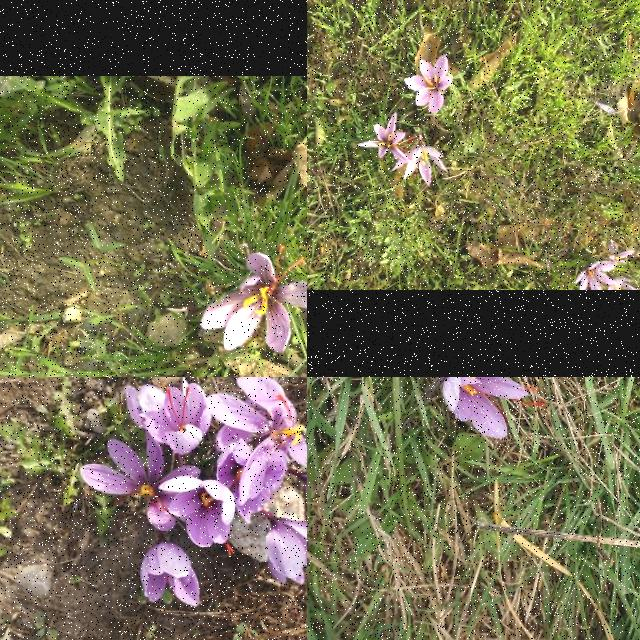flower: (204, 377, 307, 506), (80, 429, 202, 533), (200, 246, 307, 354), (442, 377, 549, 440), (158, 477, 238, 557), (138, 382, 212, 456), (140, 540, 204, 606), (264, 516, 307, 588), (358, 114, 418, 164), (405, 55, 453, 115), (390, 145, 450, 187), (575, 262, 619, 290), (607, 278, 639, 290)
overlap: (81, 377, 307, 558)
